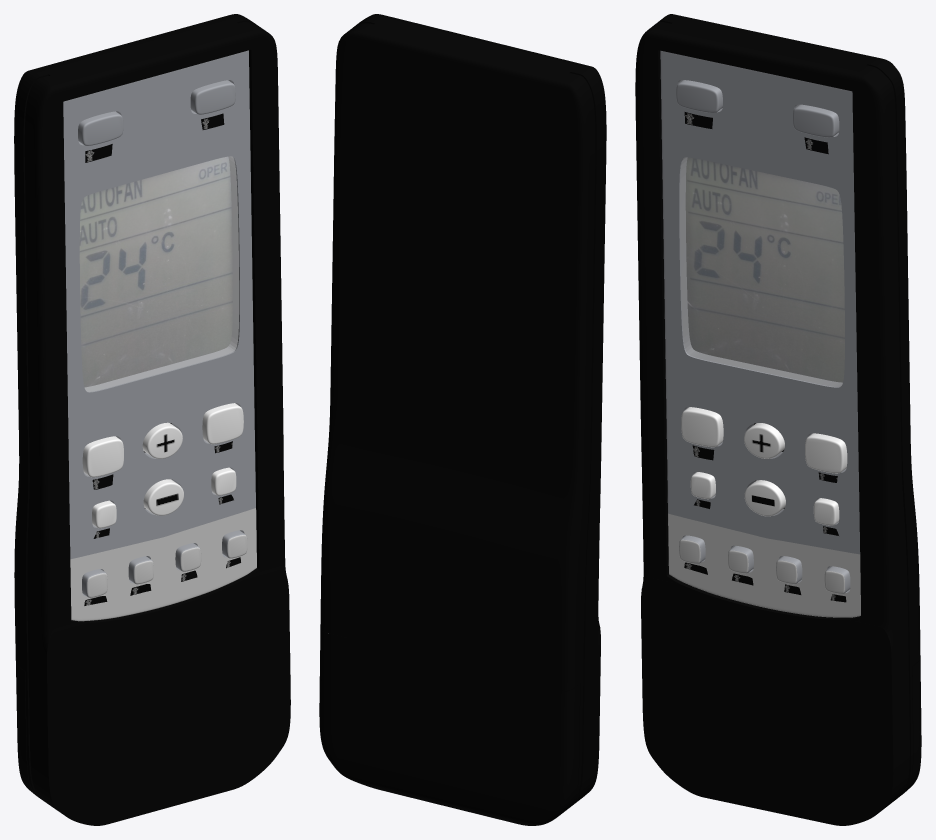
File: AirConditionerControl.fbx
3 renders of one model, left to right at view 1: azimuth 30°, elevation 25°; view 2: azimuth 150°, elevation 25°; view 3: azimuth 330°, elevation 25°, orthographic.
Visible parts, largest first — view 1: Object002; view 2: Object002; view 3: Object002.
Boxes of the visible parts, <box> form: Object002: <box>14,14,290,825</box>; Object002: <box>319,14,606,825</box>; Object002: <box>635,14,921,825</box>.
Bounding box in the file's own units: 5.41 × 15.18 × 1.4.
